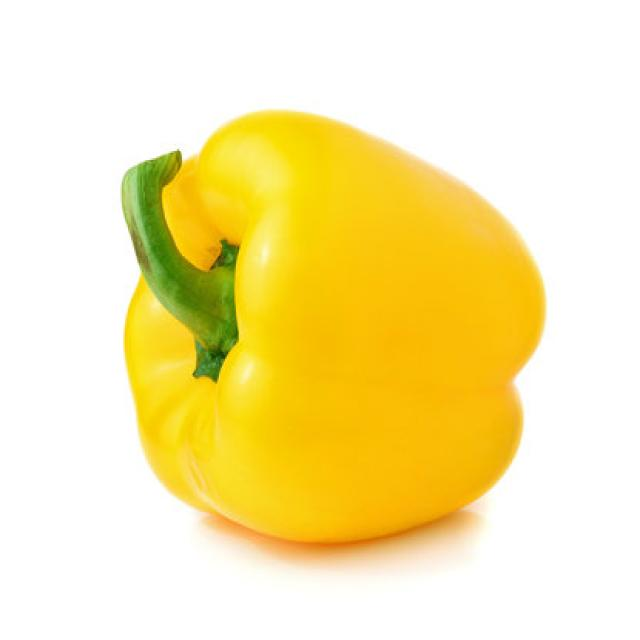Bell Pepper: (119, 107, 546, 544)
